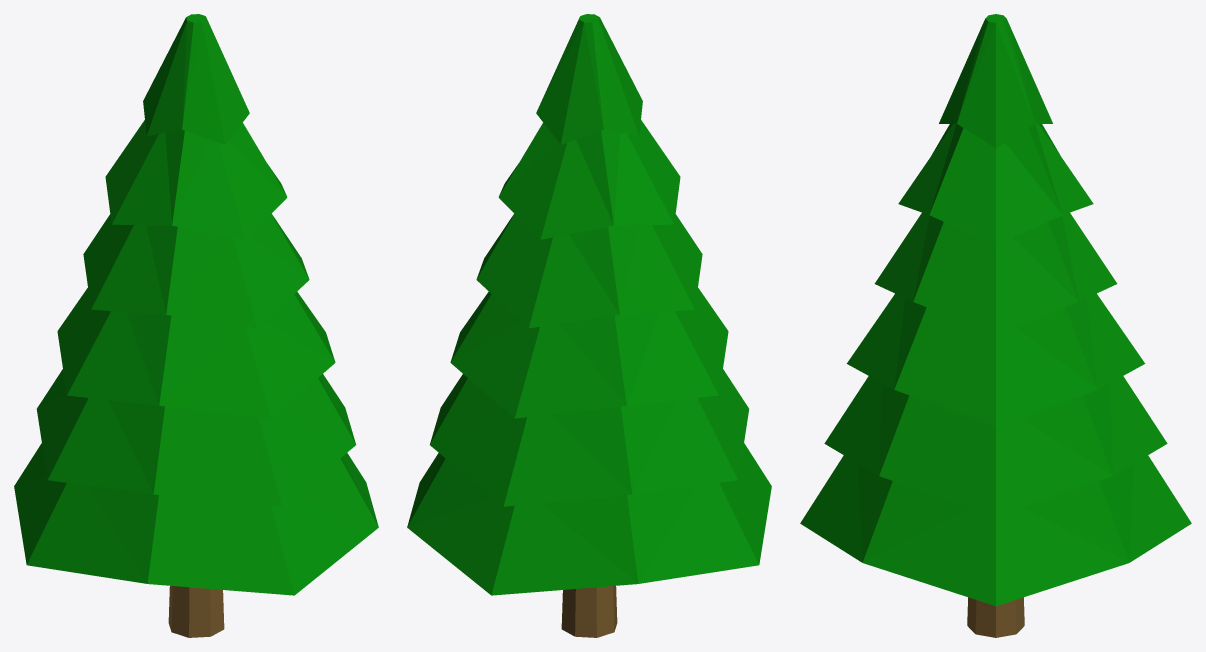
The model's file is firtree.obj.
The picture shows the model from 3 angles, left to right: view 1: azimuth 30°, elevation 25°; view 2: azimuth 150°, elevation 25°; view 3: azimuth 270°, elevation 25°; orthographic projection.
Parts seen in each view (by area): view 1: Leaves0_LOD0_Leaves.000; view 2: Leaves0_LOD0_Leaves.000; view 3: Leaves0_LOD0_Leaves.000.
Part boxes in pixels (box(x1,y1,x2,y2)): Leaves0_LOD0_Leaves.000: box(14, 14, 378, 637); Leaves0_LOD0_Leaves.000: box(407, 14, 771, 637); Leaves0_LOD0_Leaves.000: box(800, 14, 1191, 637).
Bounding box in the file's own units: 3.71 × 6.34 × 3.71.
